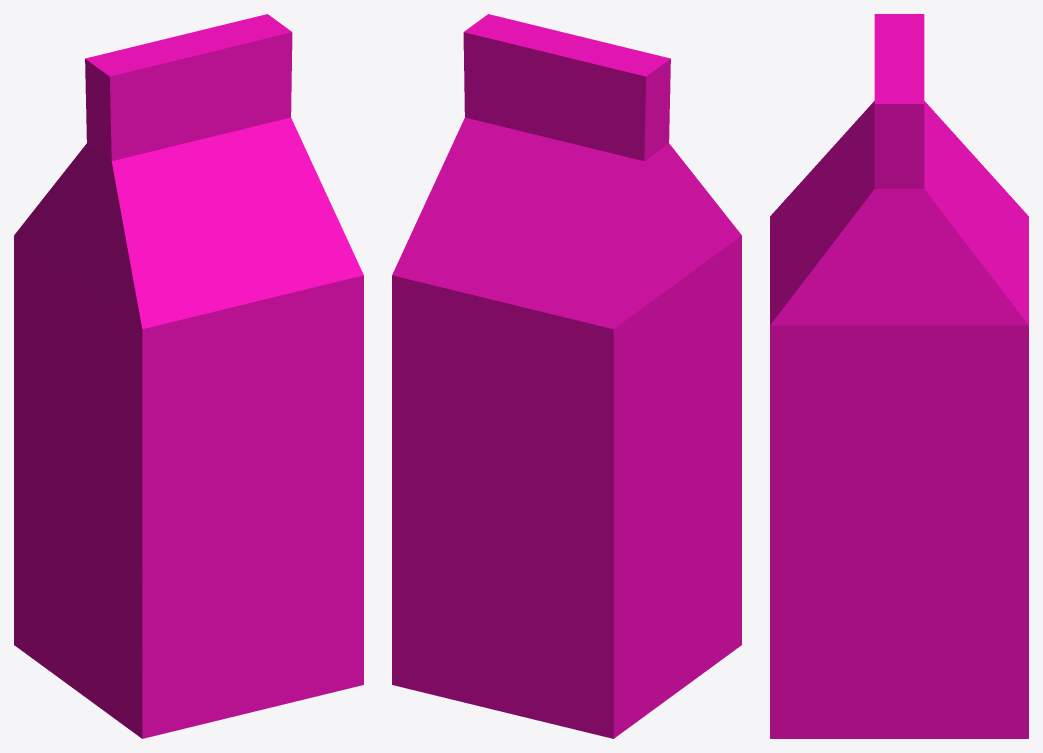
Rendered from study_drink_box_3_meshCollider.fbx.
The picture shows the model from 3 angles, left to right: view 1: azimuth 30°, elevation 25°; view 2: azimuth 150°, elevation 25°; view 3: azimuth 270°, elevation 25°; orthographic projection.
Visible parts, largest first — view 1: study_drink_box_3_meshCollider; view 2: study_drink_box_3_meshCollider; view 3: study_drink_box_3_meshCollider.
Boxes of the visible parts, <box> form: study_drink_box_3_meshCollider: <box>14,14,363,738</box>; study_drink_box_3_meshCollider: <box>392,14,741,738</box>; study_drink_box_3_meshCollider: <box>770,14,1028,738</box>.
Bounding box in the file's own units: 7.36 × 19.65 × 7.38.
